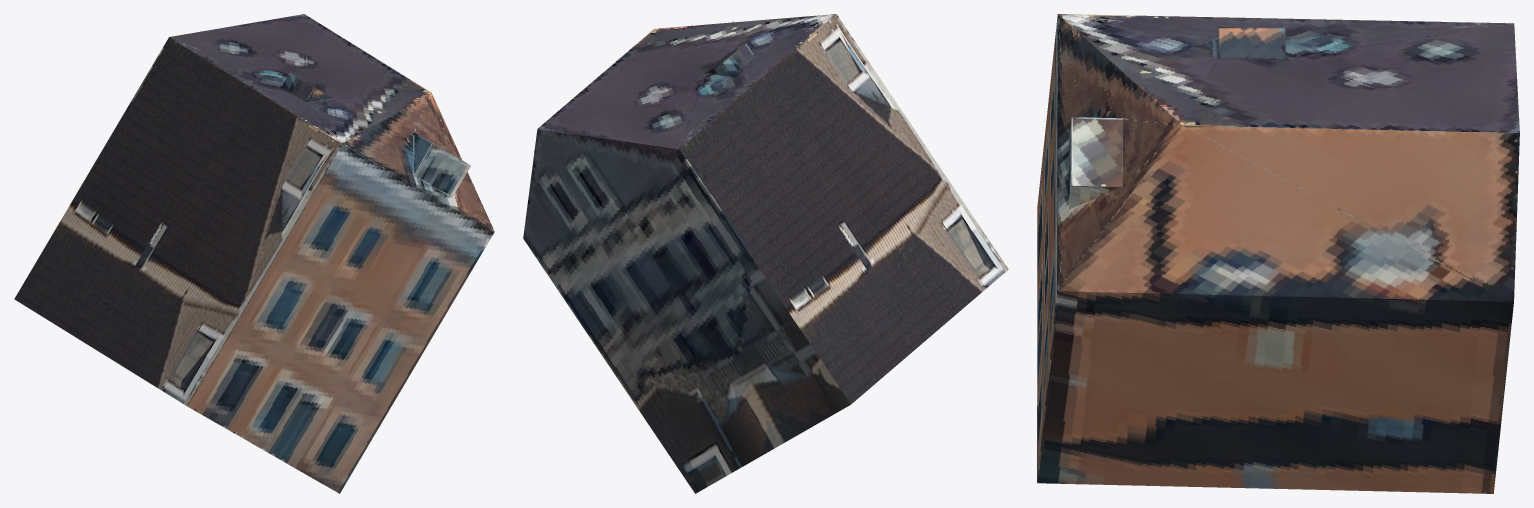
The picture shows the model from 3 angles, left to right: view 1: azimuth 30°, elevation 25°; view 2: azimuth 150°, elevation 25°; view 3: azimuth 270°, elevation 25°; orthographic projection. The views are drawn at different scales.
Parts seen in each view (by area): view 1: BAG_0599100000675886 (×7); view 2: BAG_0599100000675886 (×7); view 3: BAG_0599100000675886 (×7).
Part boxes in pixels (<box>): BAG_0599100000675886 (×7): <box>14,14,494,493</box>; BAG_0599100000675886 (×7): <box>523,14,1008,493</box>; BAG_0599100000675886 (×7): <box>1037,14,1519,493</box>.
Bounding box in the file's own units: 13.32 × 14.15 × 12.38.
Materials: 1 (1 with a texture image).
